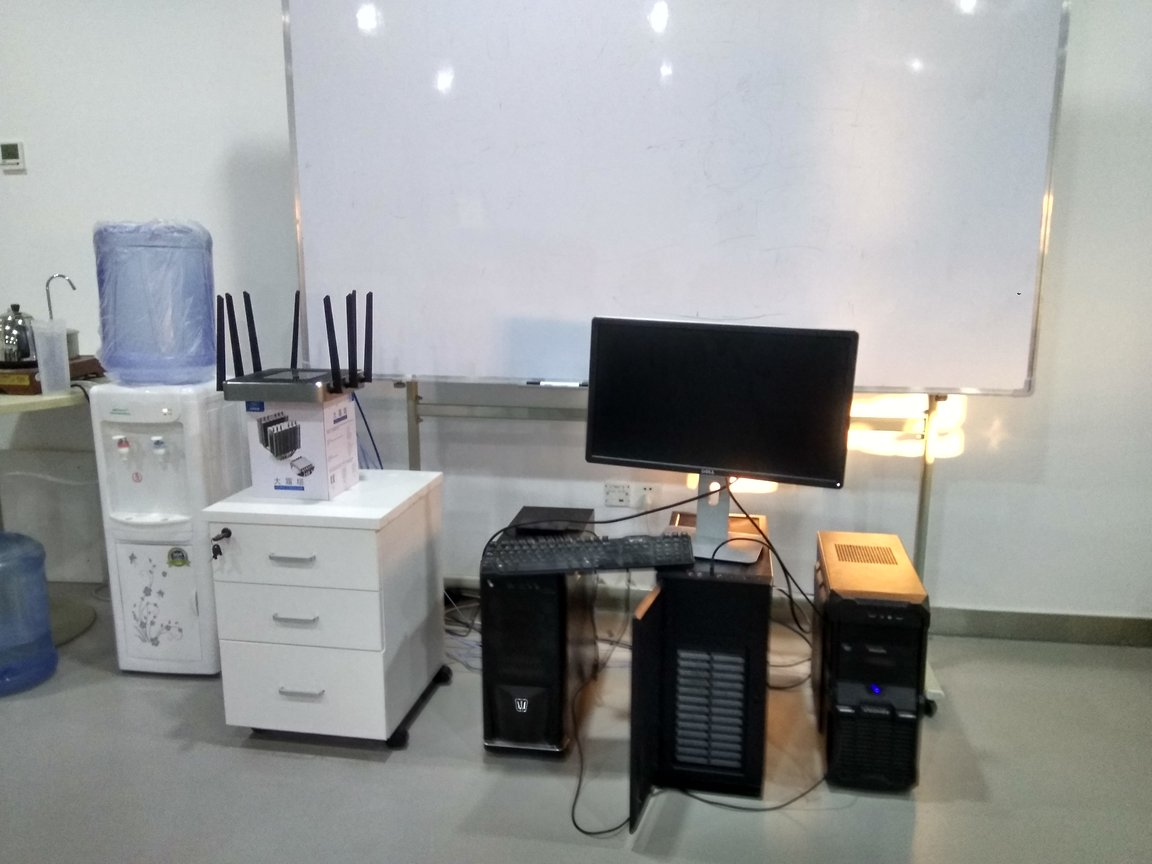computer: (623, 500, 777, 848), (807, 525, 933, 803), (482, 494, 601, 774)
drawer chest: (210, 460, 458, 773)
monitor: (577, 311, 861, 568)
scuttlebutt: (82, 213, 224, 388), (2, 507, 58, 706)
water dispenser: (87, 382, 239, 691)
